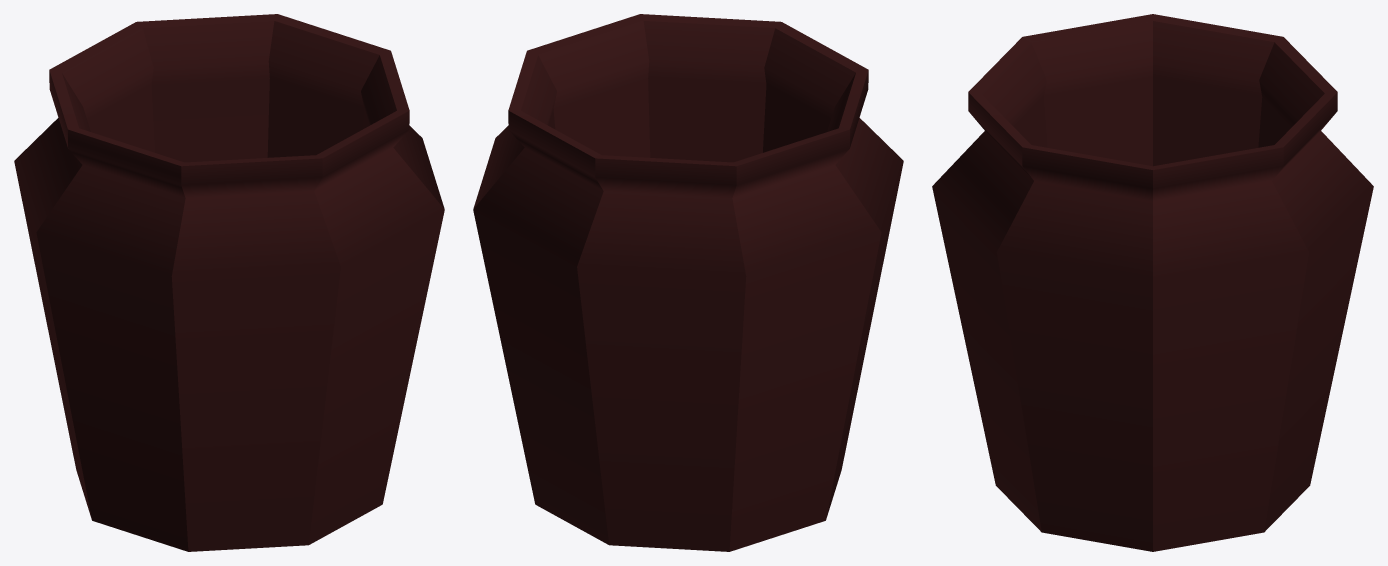
The model's file is Pot.fbx.
3 renders of one model, left to right at view 1: azimuth 30°, elevation 25°; view 2: azimuth 150°, elevation 25°; view 3: azimuth 270°, elevation 25°, orthographic.
Parts seen in each view (by area): view 1: Pot; view 2: Pot; view 3: Pot.
Boxes of the visible parts, left/top/right/bottom form: Pot: left=14, top=14, right=444, bottom=551; Pot: left=473, top=14, right=903, bottom=551; Pot: left=932, top=14, right=1373, bottom=551.
Size of the model in its own units: 2.31 by 2.27 by 2.31.
